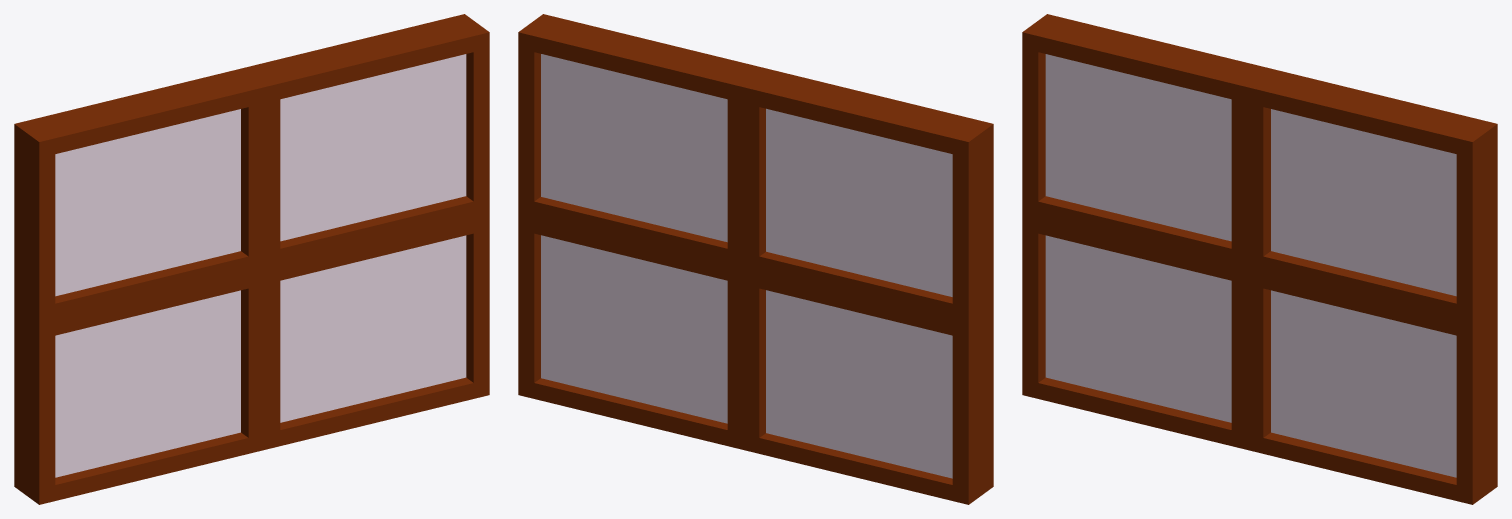
Rendered from window.fbx.
The picture shows the model from 3 angles, left to right: view 1: azimuth 30°, elevation 25°; view 2: azimuth 150°, elevation 25°; view 3: azimuth 330°, elevation 25°; orthographic projection.
Parts seen in each view (by area): view 1: Window; view 2: Window; view 3: Window.
Part boxes in pixels (x1,y1,x2,y2): Window: [14, 14, 489, 504]; Window: [518, 14, 993, 504]; Window: [1022, 14, 1497, 504].
Size of the model in its own units: 129 by 99.27 by 12.38.
